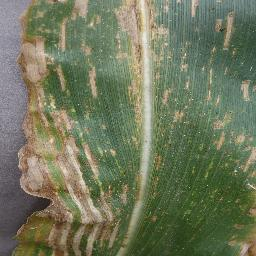Gray_Leaf_Spot: (9, 109, 132, 256), (15, 0, 170, 108), (209, 112, 256, 187), (131, 112, 144, 204), (212, 9, 240, 51), (149, 149, 168, 200), (227, 224, 256, 256), (176, 43, 192, 100), (236, 74, 255, 107), (158, 108, 188, 127), (236, 190, 256, 216), (205, 56, 216, 101), (142, 211, 162, 227), (190, 0, 203, 19), (221, 64, 231, 76), (216, 89, 222, 108)
